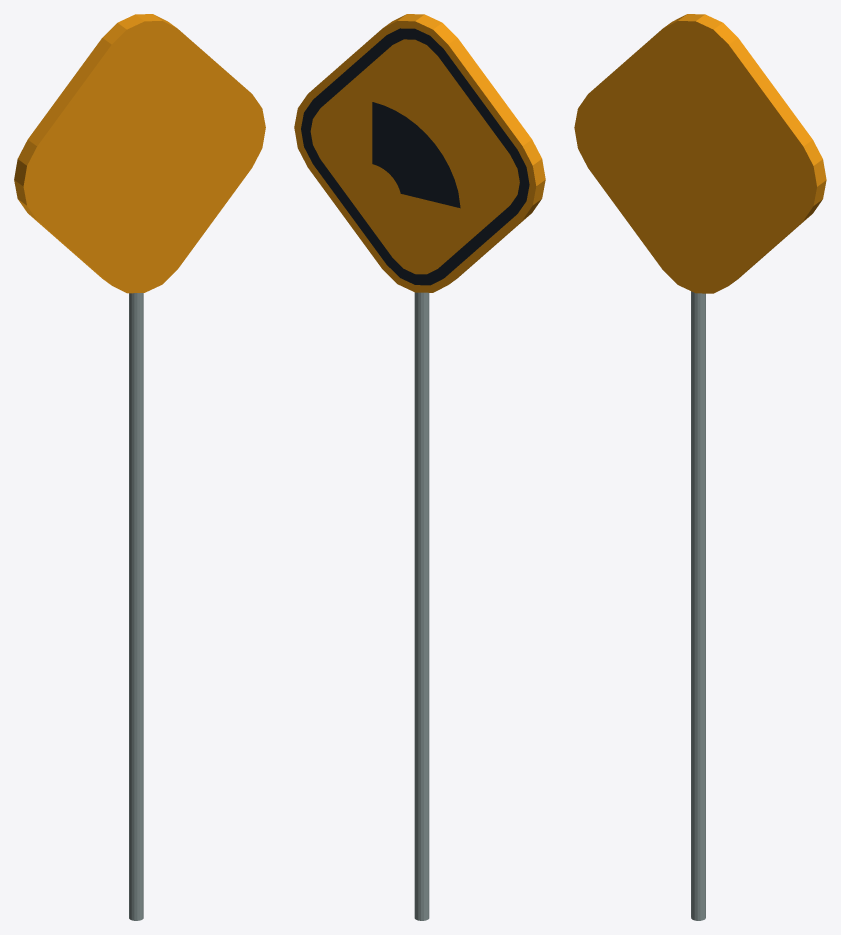
The model's file is curveSignL.fbx.
3 renders of one model, left to right at view 1: azimuth 30°, elevation 25°; view 2: azimuth 150°, elevation 25°; view 3: azimuth 330°, elevation 25°, orthographic.
Parts seen in each view (by area): view 1: Cylinder.002; view 2: Cylinder.002; view 3: Cylinder.002.
Part boxes in pixels (x1,y1,x2,y2): Cylinder.002: (14, 14, 265, 920); Cylinder.002: (294, 14, 545, 920); Cylinder.002: (574, 14, 826, 920).
Size of the model in its own units: 78.47 by 278 by 5.39.
